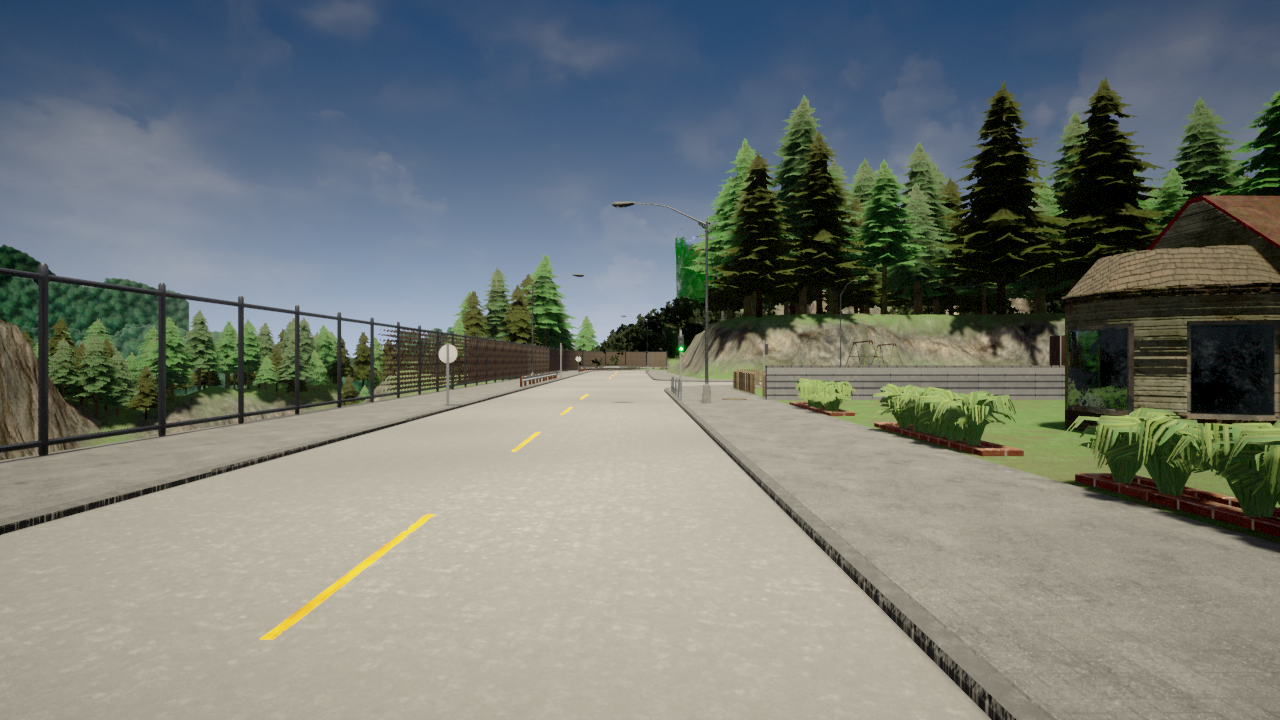green: (677, 334, 685, 353)
